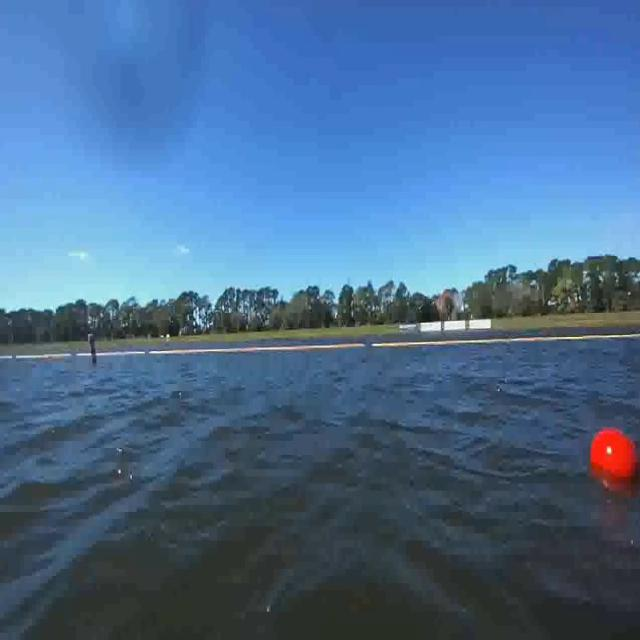red-buoy: (588, 425, 638, 489)
